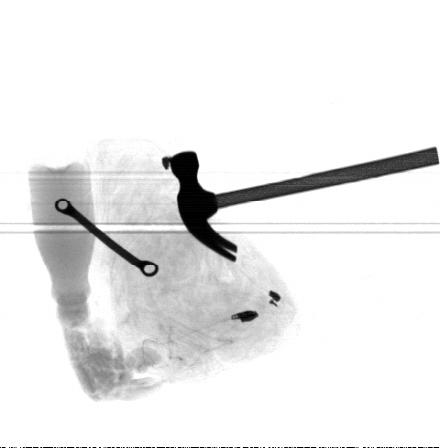Hammer: (168, 146, 439, 262)
Wrench: (54, 198, 159, 277)
